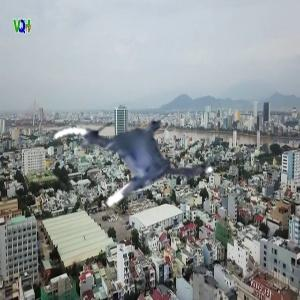drone: (52, 86, 200, 234)
